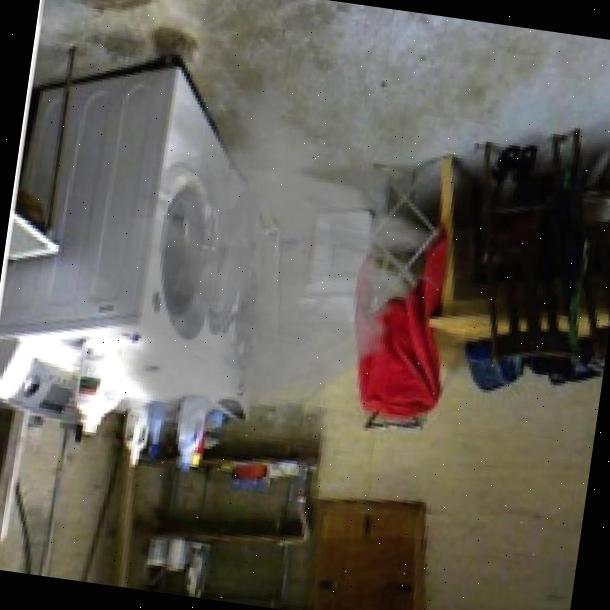smoke: (35, 51, 471, 470)
